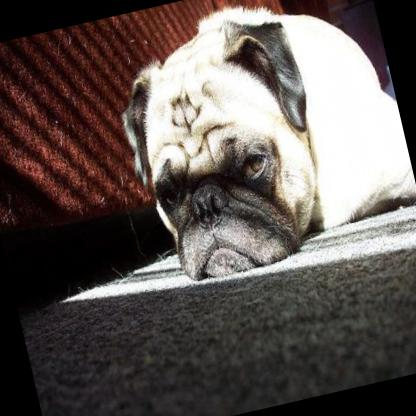pug: (101, 0, 416, 291)
